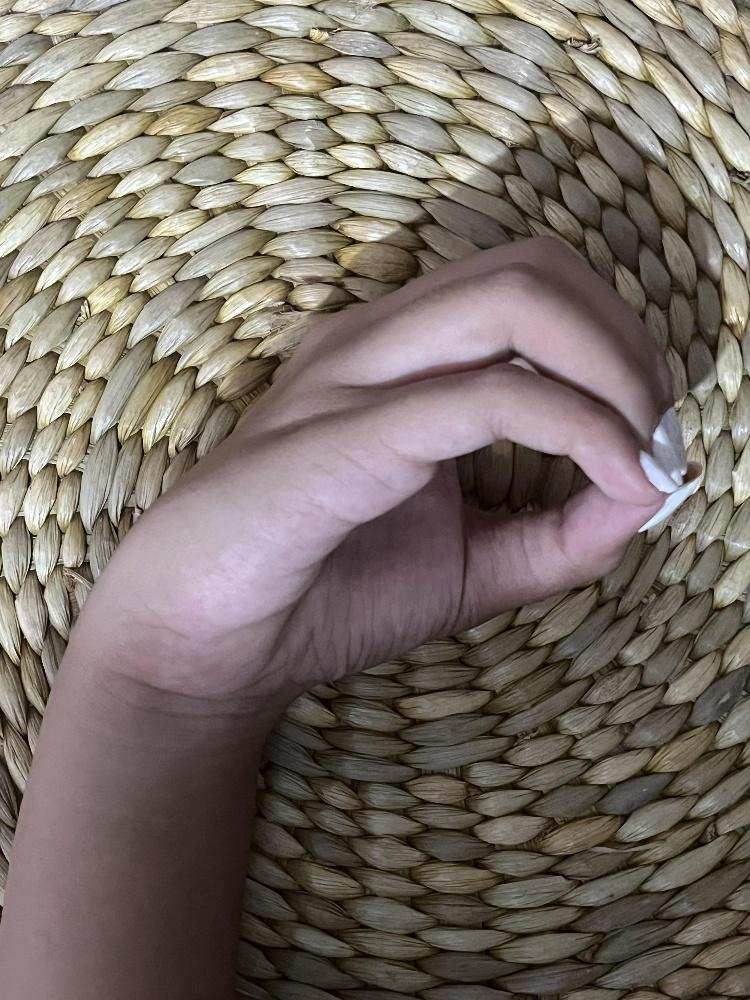o: (96, 228, 683, 687)
